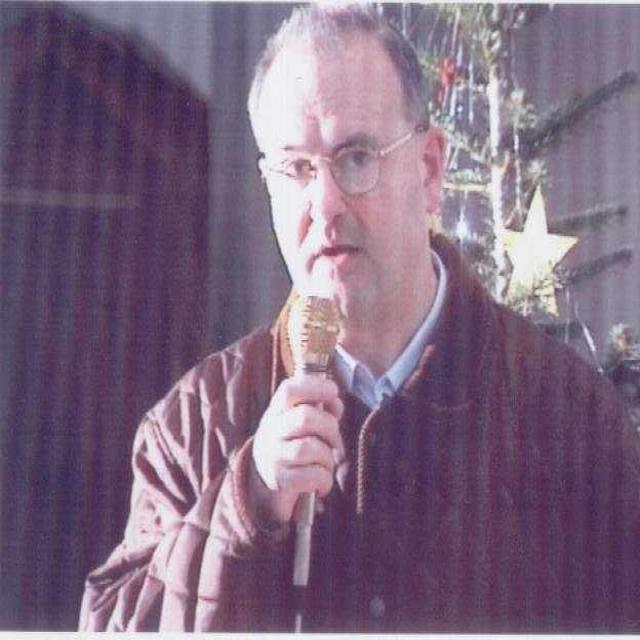microphone: (275, 282, 349, 630)
